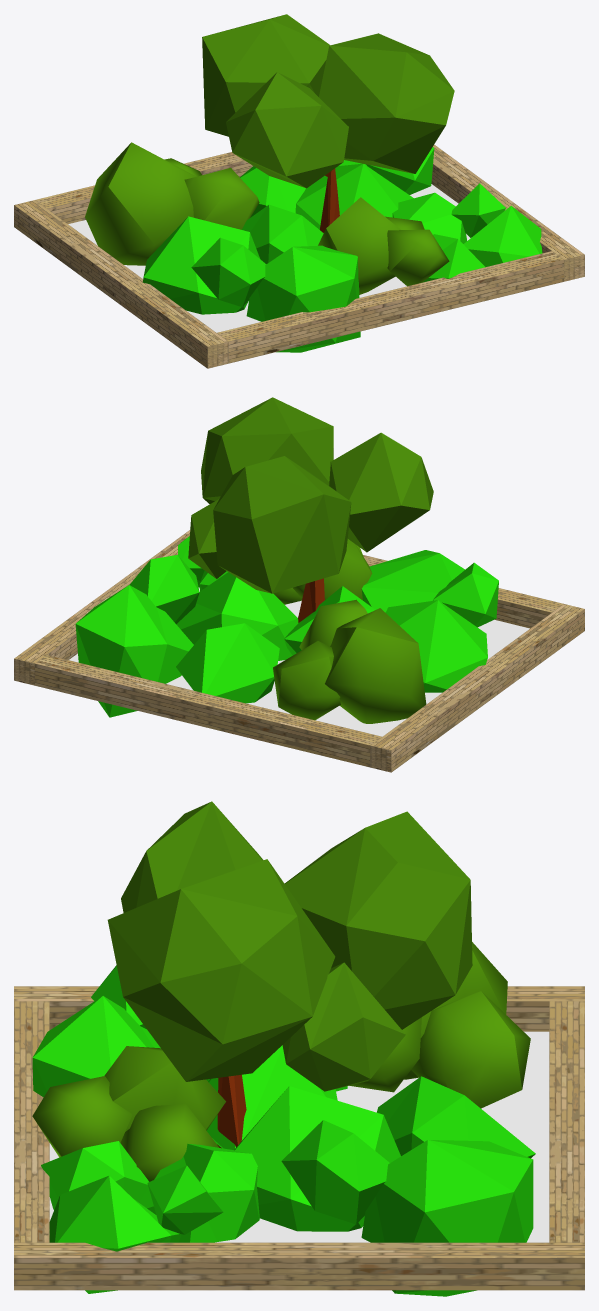
File: island.gltf
The picture shows the model from 3 angles, top to bottom: view 1: azimuth 30°, elevation 25°; view 2: azimuth 150°, elevation 25°; view 3: azimuth 270°, elevation 25°; orthographic projection. The views are drawn at different scales.
Parts seen in each view (by area): view 1: Bush_Front.000, Island; view 2: Bush_Front.000, Island; view 3: Bush_Front.000, Island.
Boxes of the visible parts, x1=… form: Bush_Front.000: x1=68, y1=14, x2=542, y2=352; Island: x1=14, y1=144, x2=584, y2=368; Bush_Front.000: x1=69, y1=397, x2=529, y2=736; Island: x1=14, y1=530, x2=584, y2=772; Bush_Front.000: x1=32, y1=801, x2=549, y2=1296; Island: x1=14, y1=986, x2=584, y2=1290.
Size of the model in its own units: 18 by 11.94 by 16.
Materials: 9 (4 with a texture image).
